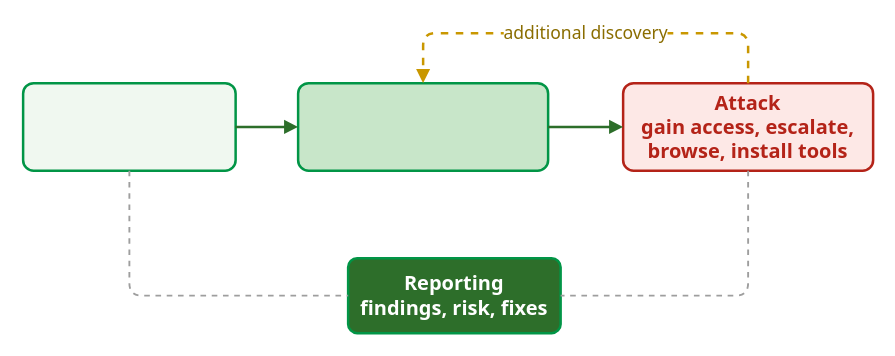
Image size: 895x356. Some labels were removed from this diagram. Each missing label, with the centre of its shape:
"Discovery information gathering, vulnerability analysis" belongs at point (422, 126).
"Planning rules, approval, goals" belongs at point (128, 126).
